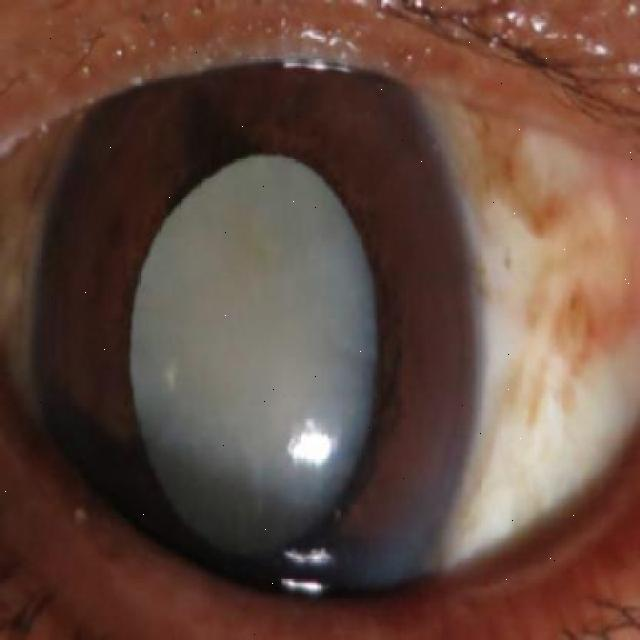Cataract: (25, 28, 476, 630)
